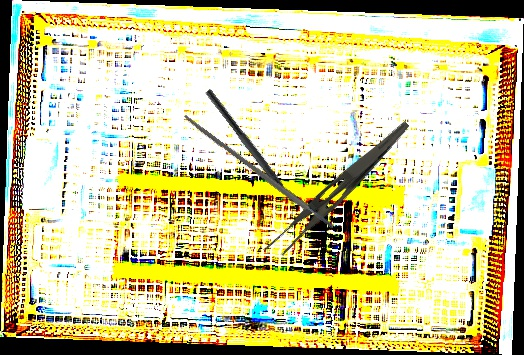Chopper: (196, 87, 306, 222)
Dressing Forceps: (260, 106, 412, 269)
Scalpel Handle: (182, 113, 335, 231)
